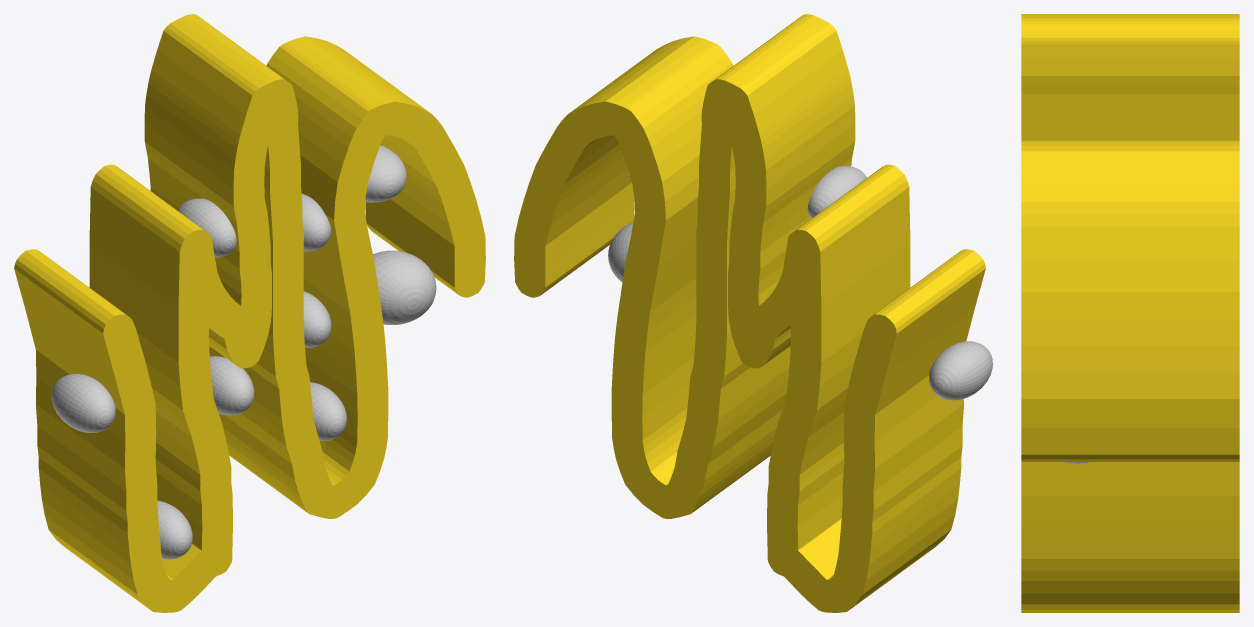
Rendered from rougher.obj.
3 renders of one model, left to right at view 1: azimuth 30°, elevation 25°; view 2: azimuth 150°, elevation 25°; view 3: azimuth 270°, elevation 25°, orthographic. The views are drawn at different scales.
Parts seen in each view (by area): view 1: group_0_16768282, group_0_40919; view 2: group_0_16768282, group_0_40919; view 3: group_0_16768282.
Part boxes in pixels (x1=…): group_0_16768282: x1=14, y1=14, x2=485, y2=612; group_0_40919: x1=51, y1=145, x2=436, y2=559; group_0_16768282: x1=514, y1=14, x2=985, y2=612; group_0_40919: x1=608, y1=166, x2=992, y2=400; group_0_16768282: x1=1021, y1=14, x2=1239, y2=612.
Size of the model in its own units: 26.15 by 31.45 by 10.
